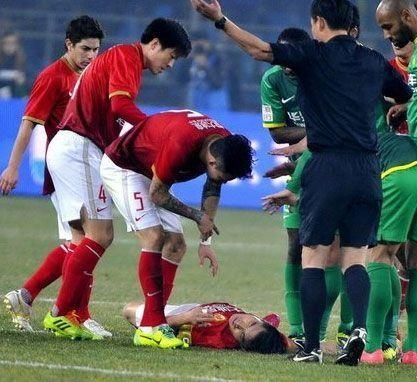falling: (120, 291, 301, 358)
